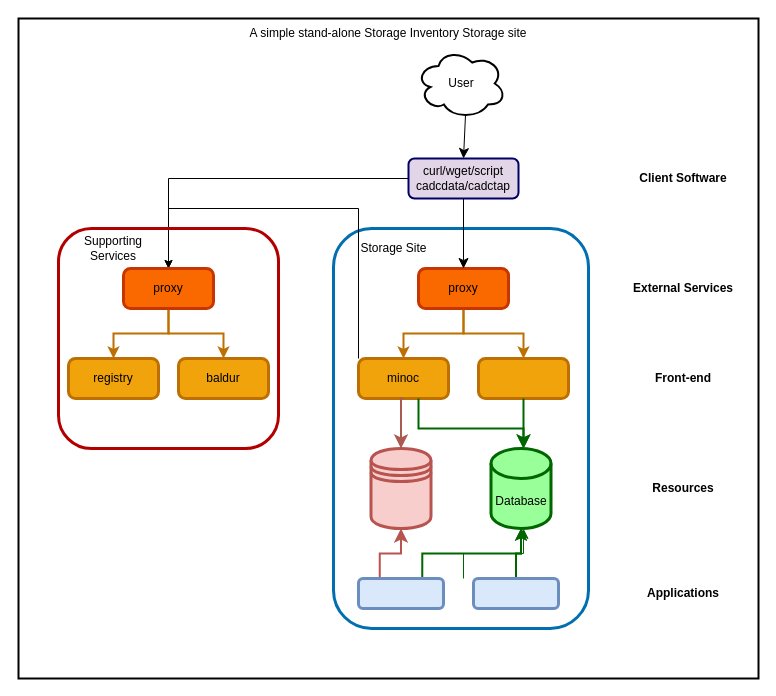
Image size: 776x696. Some labels were removed from this diagram. Here are the shapes that lost their labels. From the top down, the centre of each, then its label:
(x=523, y=378): luskan
(x=400, y=488): Storage
(x=400, y=593): tantar
(x=516, y=593): ringhold
